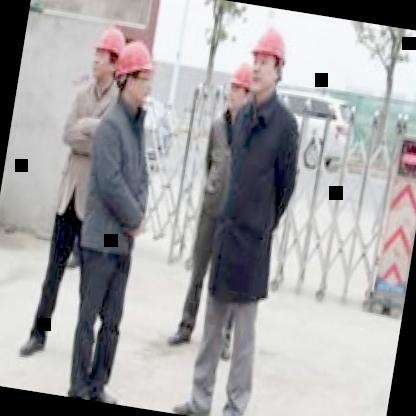helmet: (242, 19, 296, 104), (108, 34, 162, 116), (86, 16, 127, 87), (221, 50, 258, 120)
